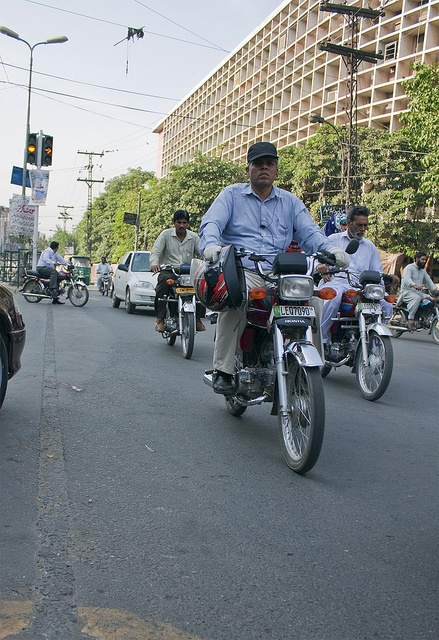non-vehicle: (202, 247, 341, 474), (310, 267, 401, 400), (153, 265, 204, 359), (22, 258, 89, 308), (389, 288, 438, 343), (98, 272, 111, 295)
